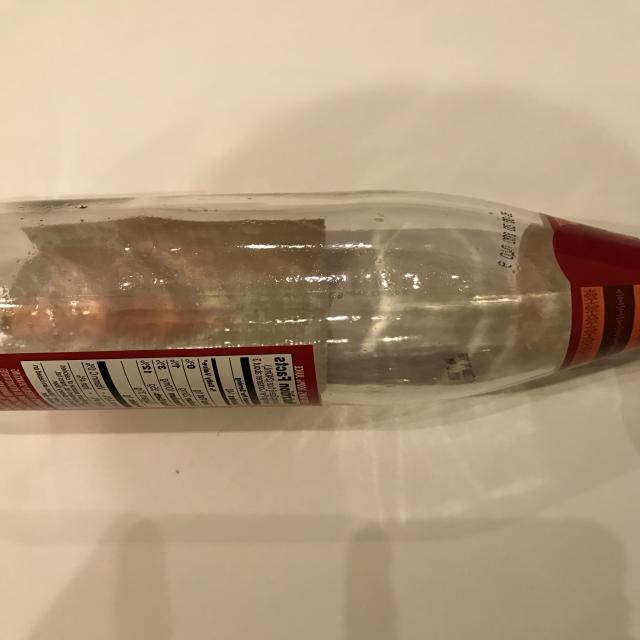glass: (0, 184, 640, 413)
